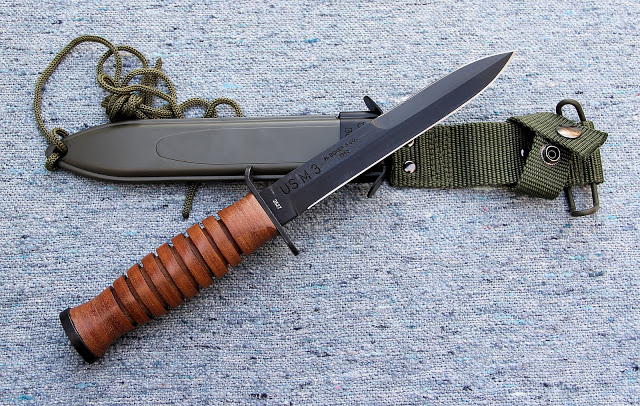knife: (257, 44, 519, 227)
